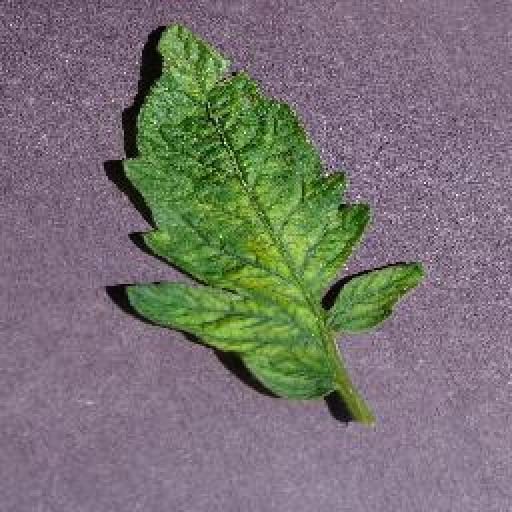Mosaic Virus: (114, 12, 426, 398)
